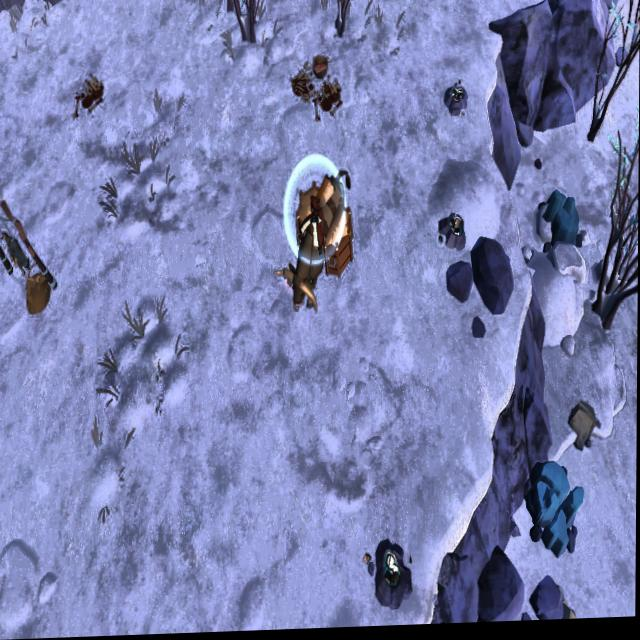rock_t4: (527, 461, 583, 561), (541, 187, 586, 267)
